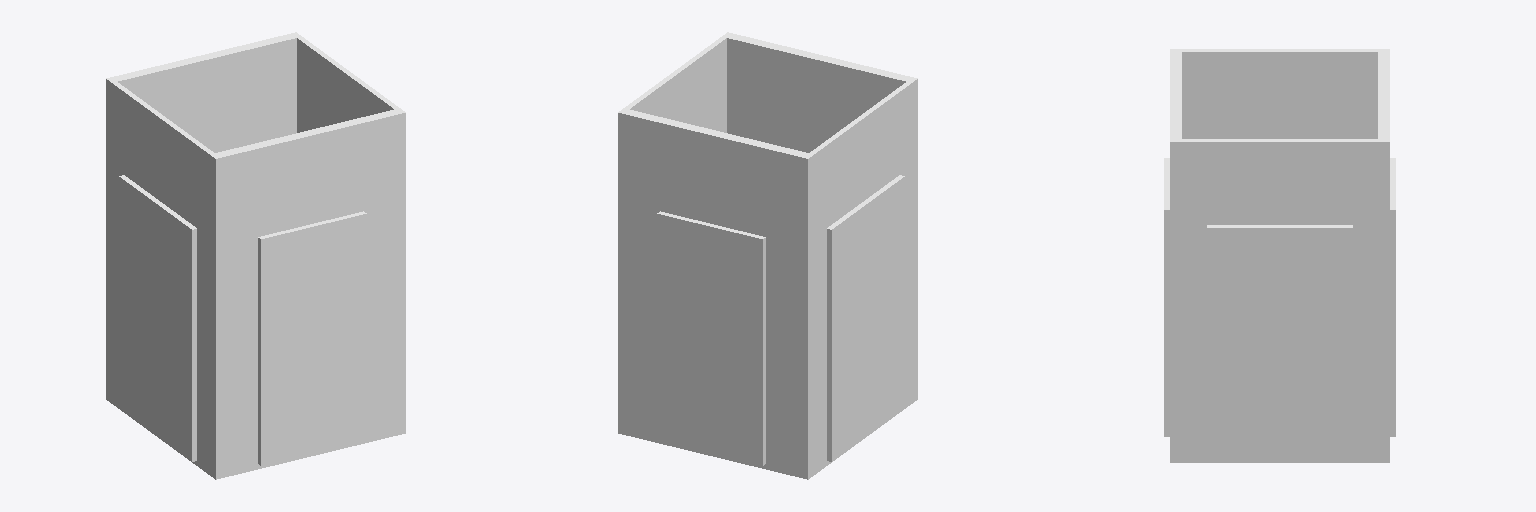
Rendered from MugMilk.obj.
3 renders of one model, left to right at view 1: azimuth 30°, elevation 25°; view 2: azimuth 150°, elevation 25°; view 3: azimuth 270°, elevation 25°, orthographic.
Visible parts, largest first — view 1: MugMilk; view 2: MugMilk; view 3: MugMilk.
Part boxes in pixels (x1,y1,x2,y2): MugMilk: (106,32,405,479); MugMilk: (618,32,917,479); MugMilk: (1164,49,1395,462).
Bounding box in the file's own units: 0.646 × 0.986 × 0.646.